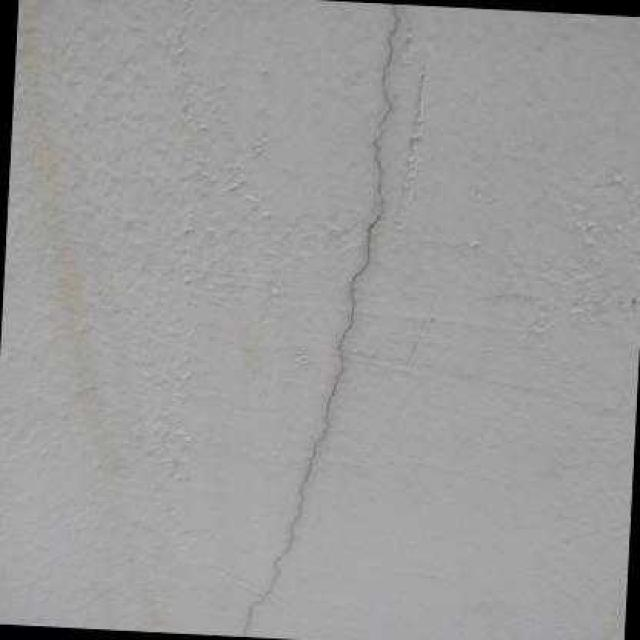D00: (238, 3, 402, 637)
